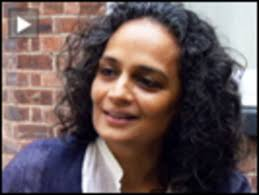indian_female: (79, 1, 193, 160)
